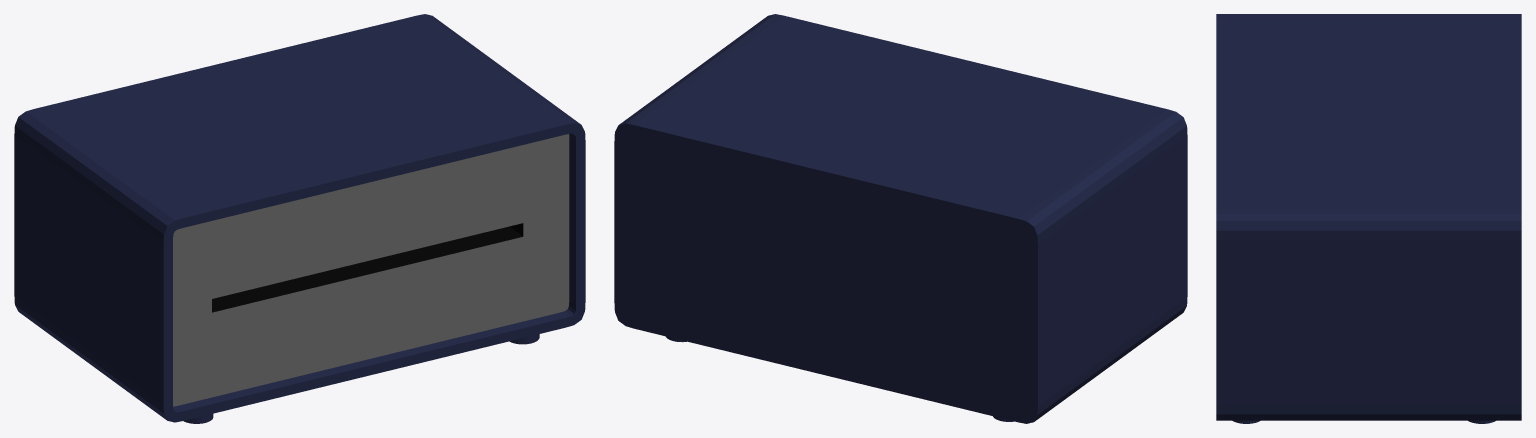
The model's file is RanuraInstrucciones.fbx.
3 renders of one model, left to right at view 1: azimuth 30°, elevation 25°; view 2: azimuth 150°, elevation 25°; view 3: azimuth 270°, elevation 25°, orthographic. The views are drawn at different scales.
Visible parts, largest first — view 1: Cube; view 2: Cube; view 3: Cube.
Boxes of the visible parts, bbox=[...] form: Cube: bbox=[14, 14, 585, 422]; Cube: bbox=[614, 14, 1187, 423]; Cube: bbox=[1216, 14, 1521, 420].
Size of the model in its own units: 435 by 213 by 267.
